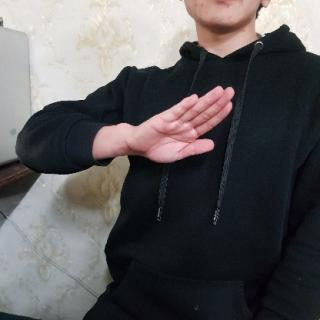SEEN: (129, 79, 240, 169)
